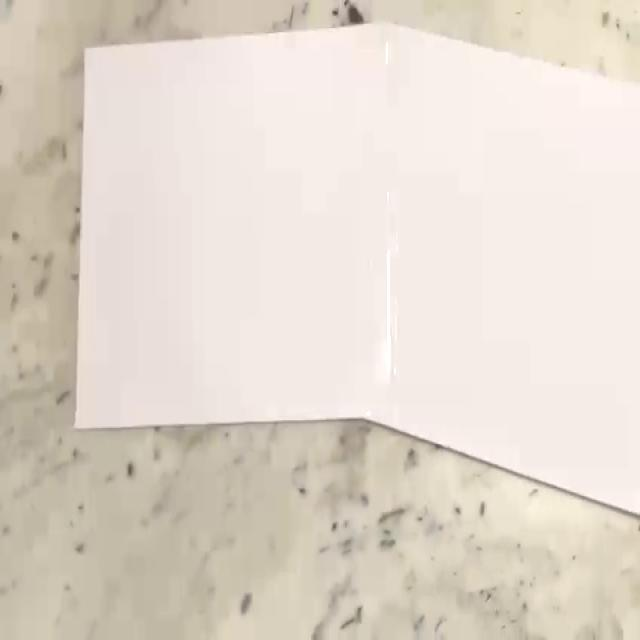road: (73, 23, 640, 517)
